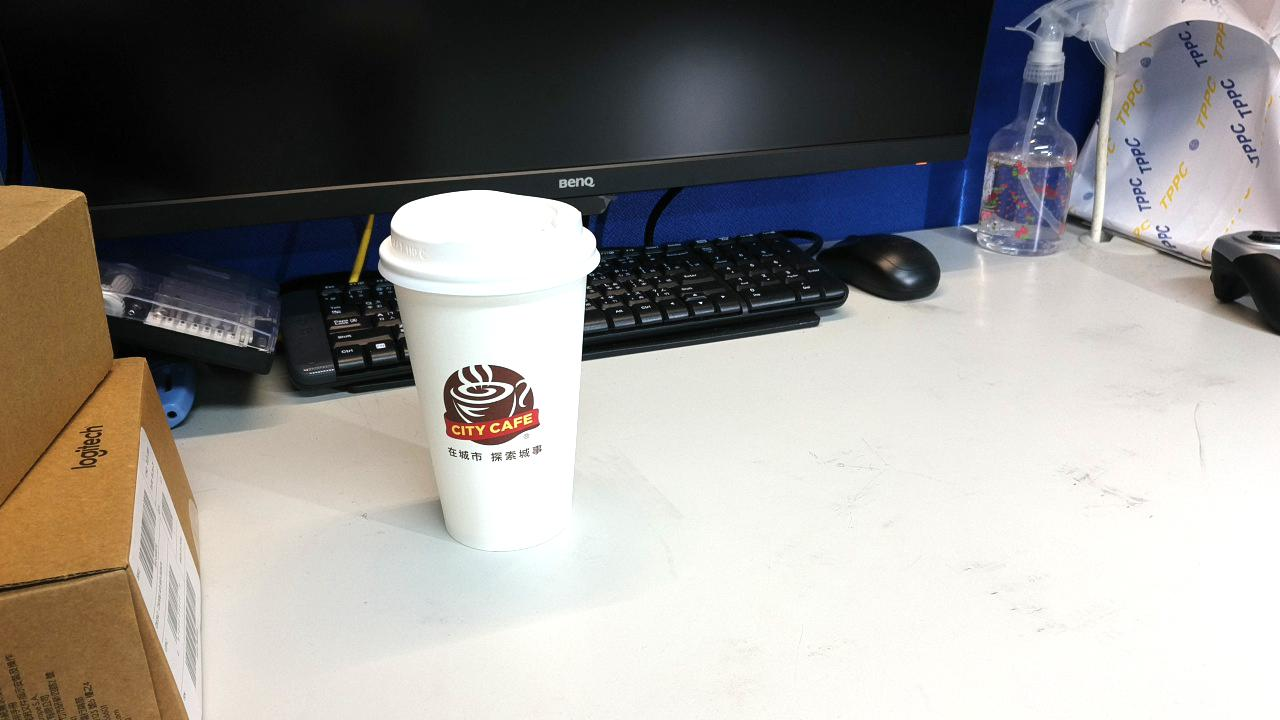long: (1015, 464, 1068, 646)
